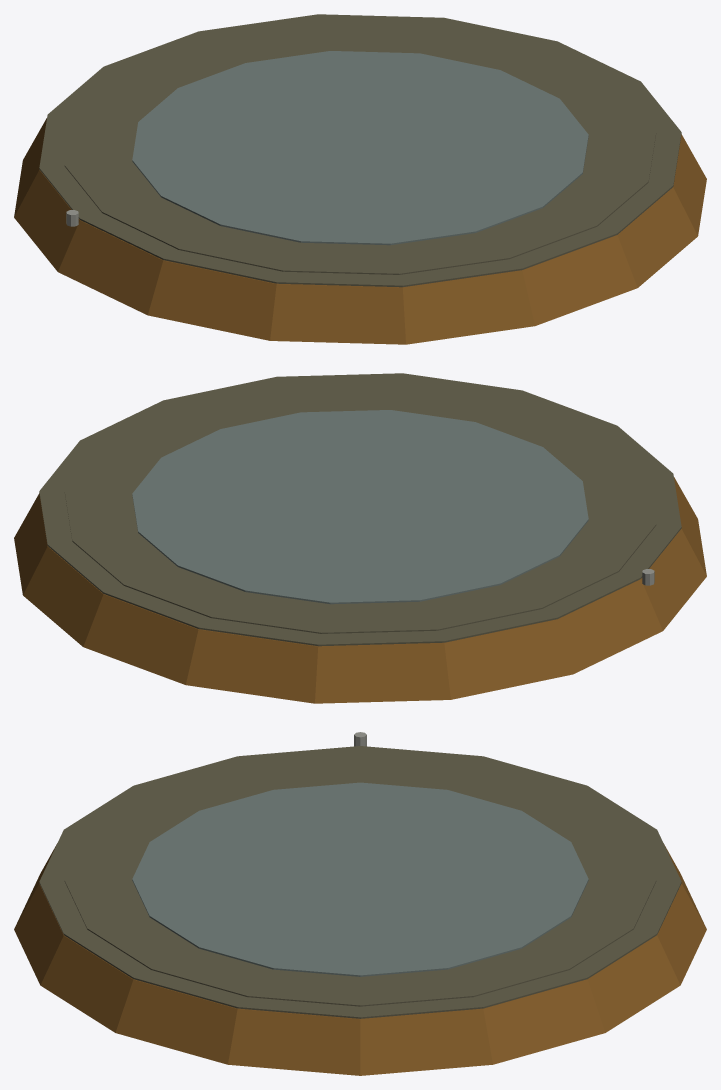
File: SM_Balsa_v1_Media_LOD0.fbx
3 views of the same model, one above another, from view 1: azimuth 30°, elevation 25°; view 2: azimuth 150°, elevation 25°; view 3: azimuth 270°, elevation 25° (orthographic).
Parts seen in each view (by area): view 1: SM_viveres_nules_v16_LOD0; view 2: SM_viveres_nules_v16_LOD0; view 3: SM_viveres_nules_v16_LOD0.
Part boxes in pixels (<box>): SM_viveres_nules_v16_LOD0: <box>14,14,706,344</box>; SM_viveres_nules_v16_LOD0: <box>14,373,706,703</box>; SM_viveres_nules_v16_LOD0: <box>14,732,706,1075</box>.
Size of the model in its own units: 16.4 by 1.45 by 16.4.
